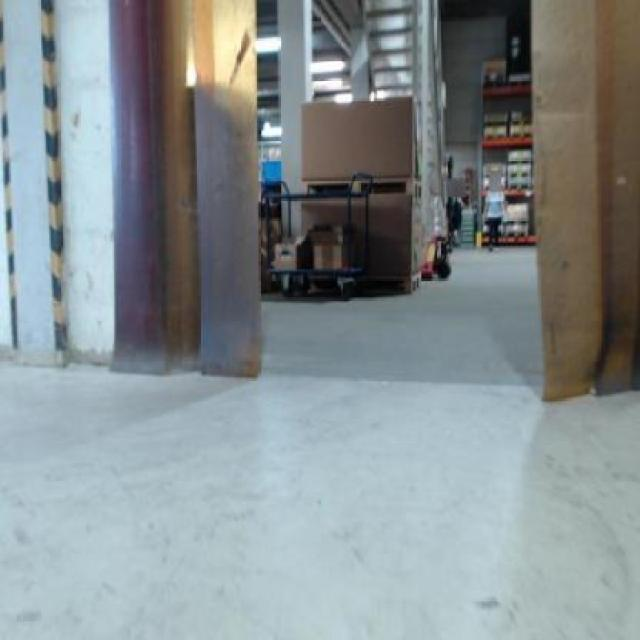pallet: (290, 168, 416, 206)
